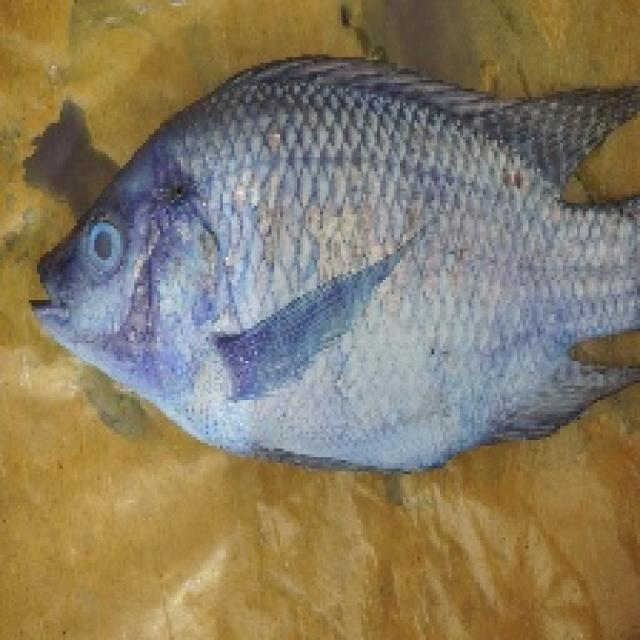Non-Fresh: (135, 100, 561, 452), (70, 208, 138, 291)
